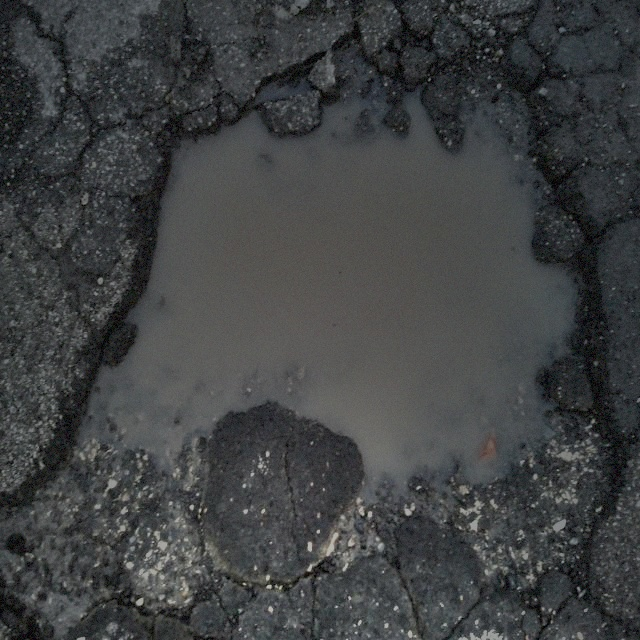pothole: (100, 49, 605, 542)
